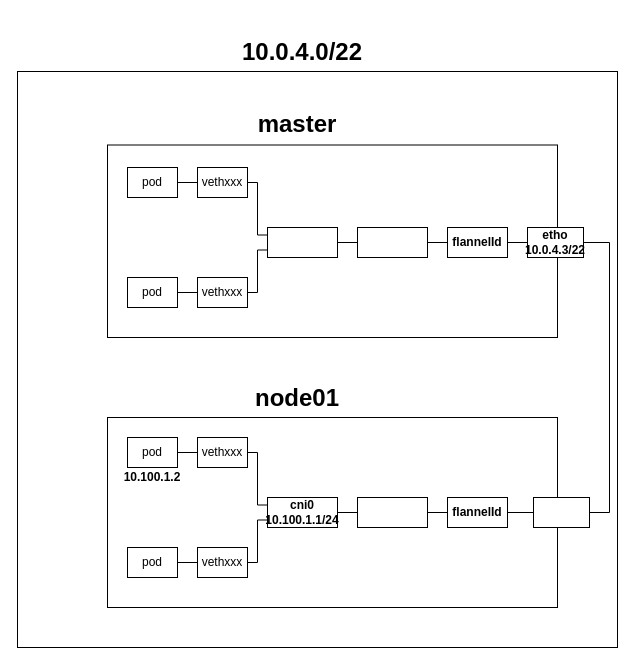
The diagram is 635 pixels wide and 665 high, and some of its shapes have lost their labels. Each missing label, with the centre of its shape:
"cni0 10.100.0.1/24" goes at (x=302, y=242).
"etho 10.0.4.14/22" goes at (x=561, y=512).
"flannel.1 10.100.0.0/32" goes at (x=392, y=242).
"flannel.1 10.100.1.0/32" goes at (x=392, y=512).
